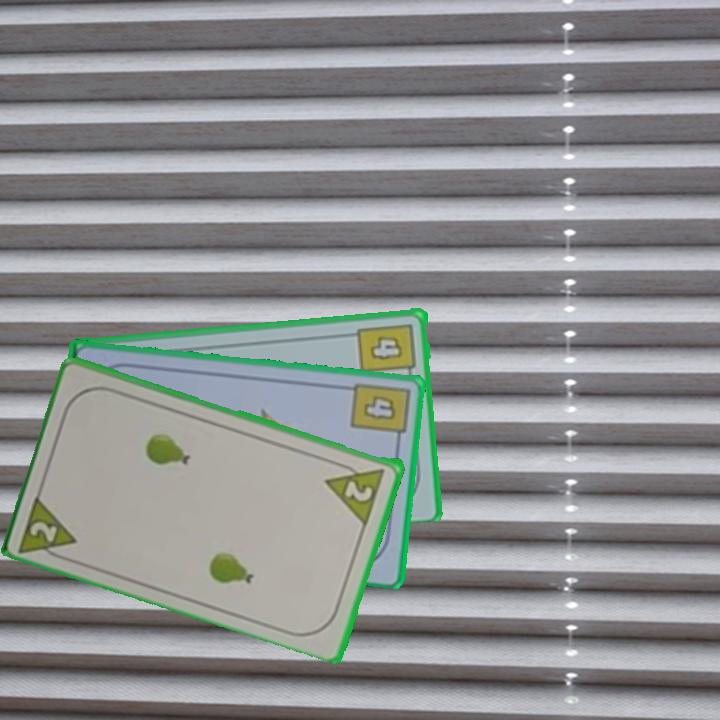2p: (15, 489, 81, 565), (322, 456, 388, 526)
4b: (347, 378, 412, 447), (355, 319, 420, 382)
